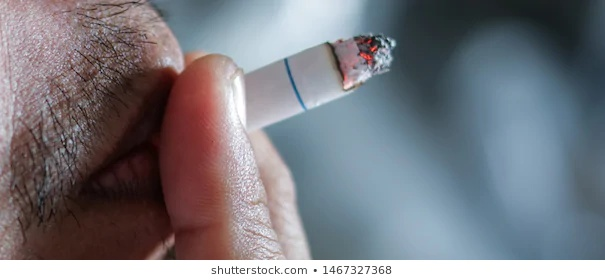sigaretta: (133, 40, 408, 172)
